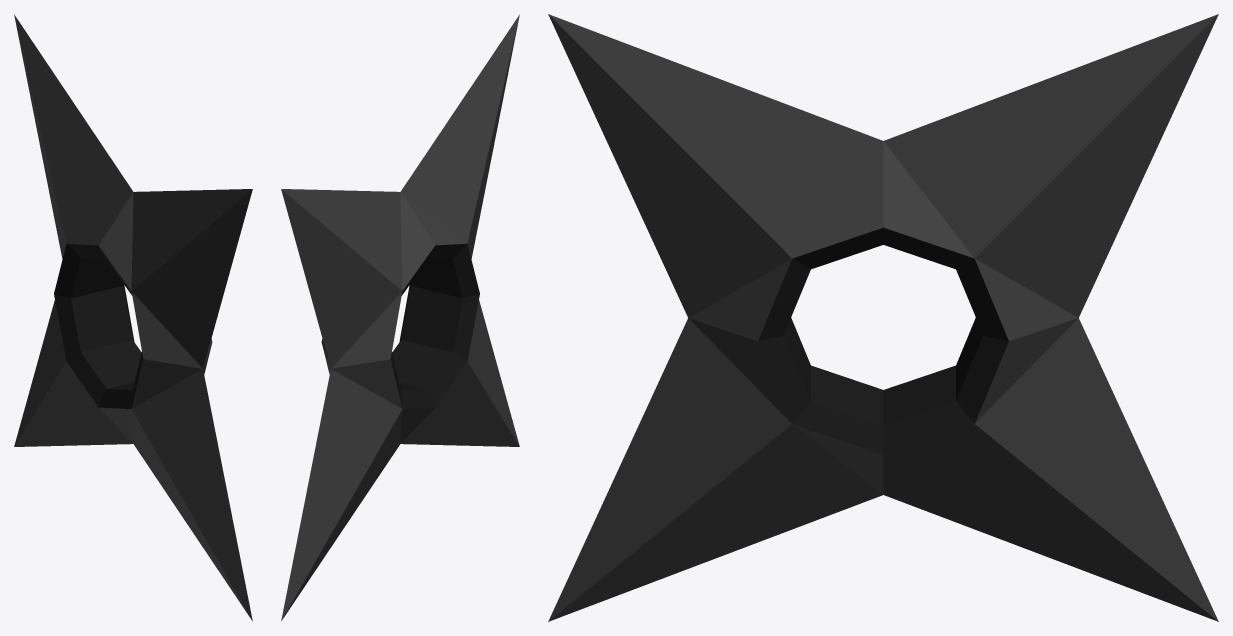
The model's file is Shuriken_Hand.glb.
The picture shows the model from 3 angles, left to right: view 1: azimuth 30°, elevation 25°; view 2: azimuth 150°, elevation 25°; view 3: azimuth 270°, elevation 25°; orthographic projection. The views are drawn at different scales.
Visible parts, largest first — view 1: shuriken; view 2: shuriken; view 3: shuriken.
Boxes of the visible parts, bbox=[...] form: shuriken: bbox=[14, 14, 252, 621]; shuriken: bbox=[281, 14, 519, 621]; shuriken: bbox=[548, 14, 1218, 621].
Bounding box in the file's own units: 0.0273 × 0.1633 × 0.1633.
Materials: 1 (1 with a texture image).
